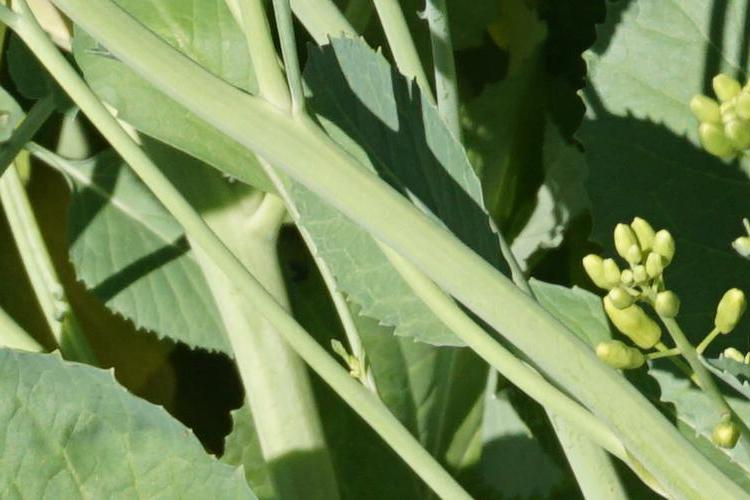bud: (603, 298, 659, 347), (601, 341, 650, 369), (612, 224, 640, 265), (712, 418, 744, 453), (702, 125, 731, 162), (631, 214, 657, 255), (689, 95, 725, 124), (653, 229, 679, 265), (655, 292, 683, 322), (584, 253, 606, 290), (721, 97, 748, 127), (714, 74, 740, 101), (645, 254, 667, 285), (613, 287, 643, 309), (726, 123, 748, 151), (734, 237, 750, 260), (604, 260, 617, 288), (620, 270, 635, 286), (632, 267, 647, 283)
